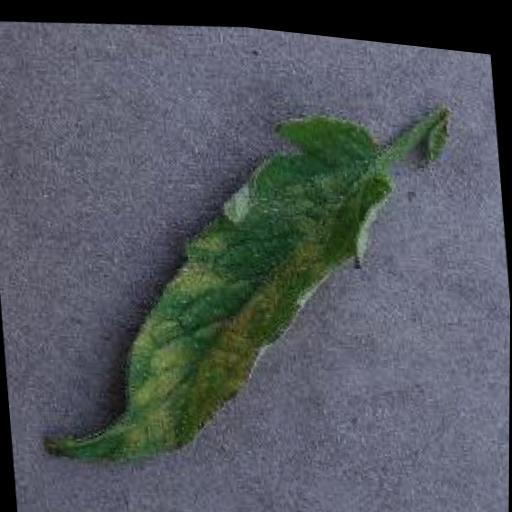Leaf Mold: (19, 73, 416, 496)
